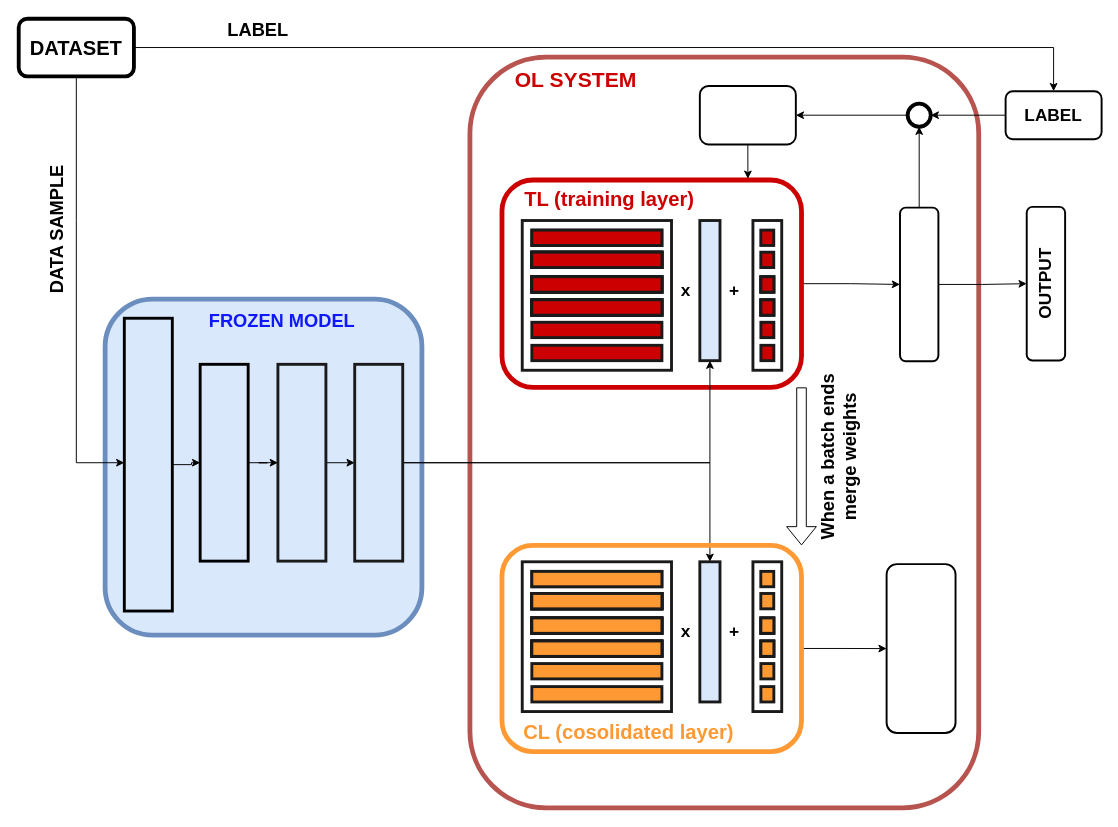
This 1118x827 diagram has some shape labels left out. The centre of each missing label's shape, as x and y in pixels:
PREDICTION: the point at 919,284
PREDICTION (only if requested): the point at 920,648
UPDATE RULE: the point at 747,114
